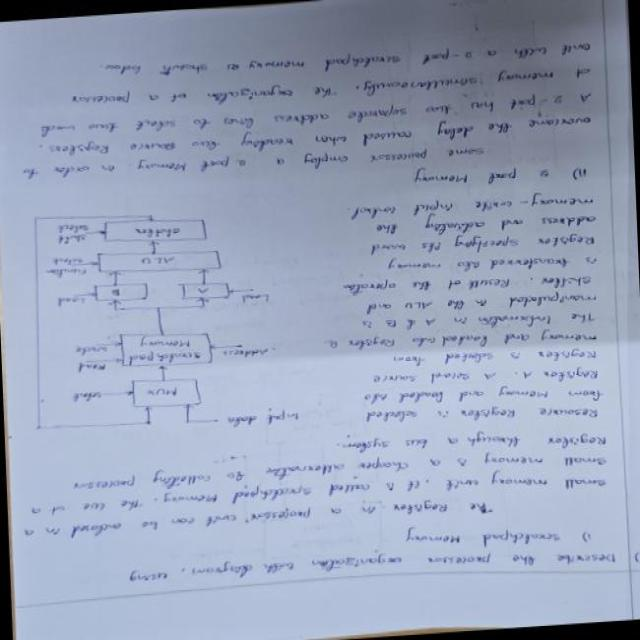Figure Detection - v3 Dataset Version2: (0, 187, 311, 466)
